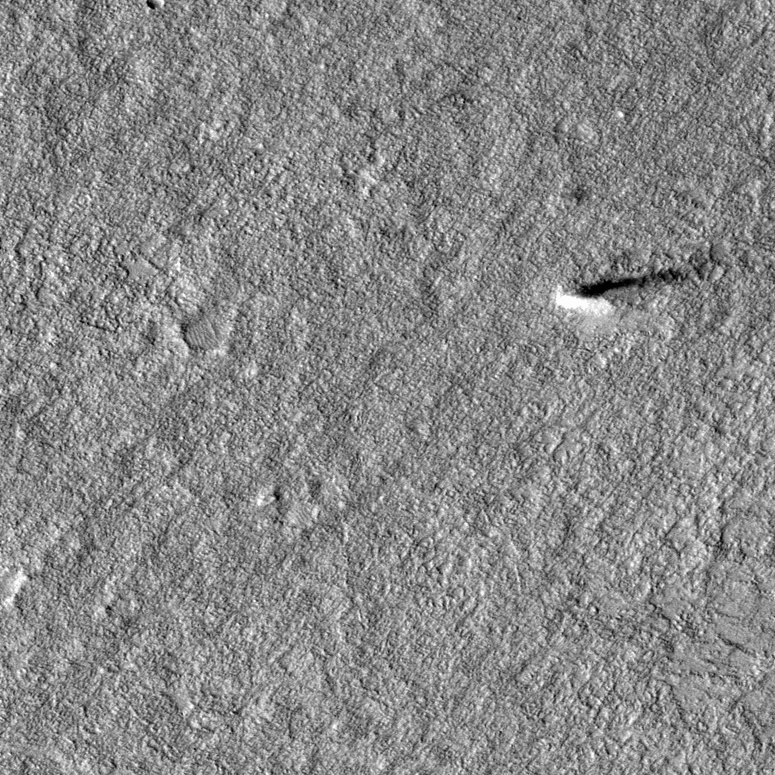dust_devil: (551, 257, 702, 319)
